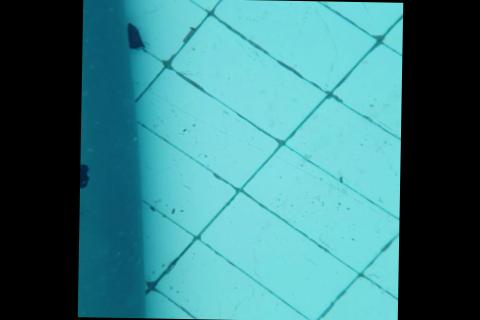kebocoran: (79, 162, 89, 188)
